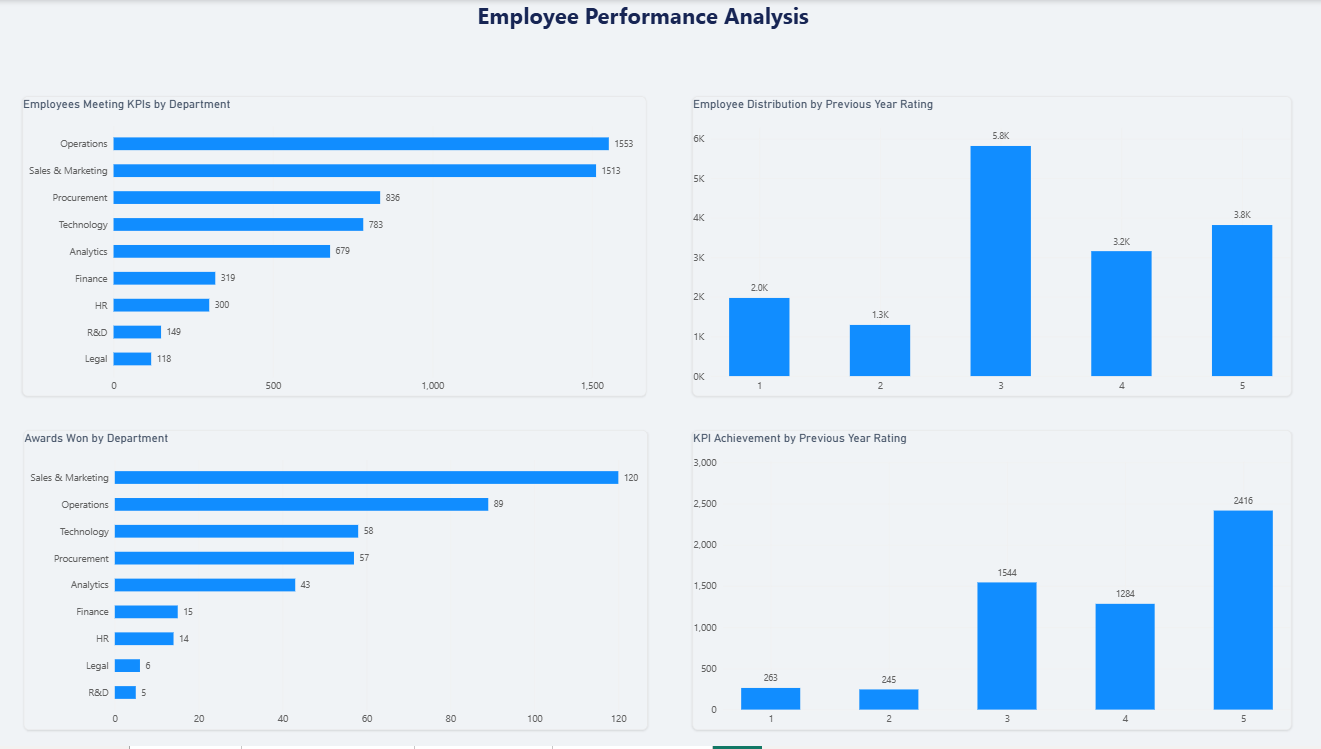

Layout of this report page (visuals, bound fields, positions):
{"tool":"powerbi","page":{"name":"Performance","canvas":[1920,1080],"ordinal":2},"visuals":[{"type":"textbox","box":[698.5,0,557.4,65.1],"z":0},{"type":"clusteredBarChart","title":"Employees Meeting KPIs by Department","fields":{"Category":["HR.department"],"Y":["Count(HR.employee_id)"]},"box":[39.8,139.3,903,434.3],"z":1000},{"type":"clusteredColumnChart","title":"Employee Distribution by Previous Year Rating","fields":{"Y":["Count(HR.employee_id)"],"Category":["HR.previous_year_rating"]},"box":[1009.8,139.3,866.8,434.3],"z":2000},{"type":"clusteredBarChart","title":"Awards Won by Department","fields":{"Category":["HR.department"],"Y":["Count(HR.employee_id)"]},"box":[41.6,622.5,903,434],"z":3000},{"type":"clusteredColumnChart","title":"KPI Achievement by Previous Year Rating","fields":{"Y":["Count(HR.employee_id)"],"Category":["HR.previous_year_rating"]},"box":[1010,623,867,434],"z":4000}]}

Visuals, with their boxes in screenshot pixels (x1, y1, x2, y2), scaled from the page's 1920x1080 canvas onto the 1321x749 screenshot:
textbox: <region>481, 0, 864, 45</region>
"Employees Meeting KPIs by Department" clusteredBarChart: <region>27, 97, 649, 398</region>
"Employee Distribution by Previous Year Rating" clusteredColumnChart: <region>695, 97, 1291, 398</region>
"Awards Won by Department" clusteredBarChart: <region>29, 432, 650, 733</region>
"KPI Achievement by Previous Year Rating" clusteredColumnChart: <region>695, 432, 1291, 733</region>
